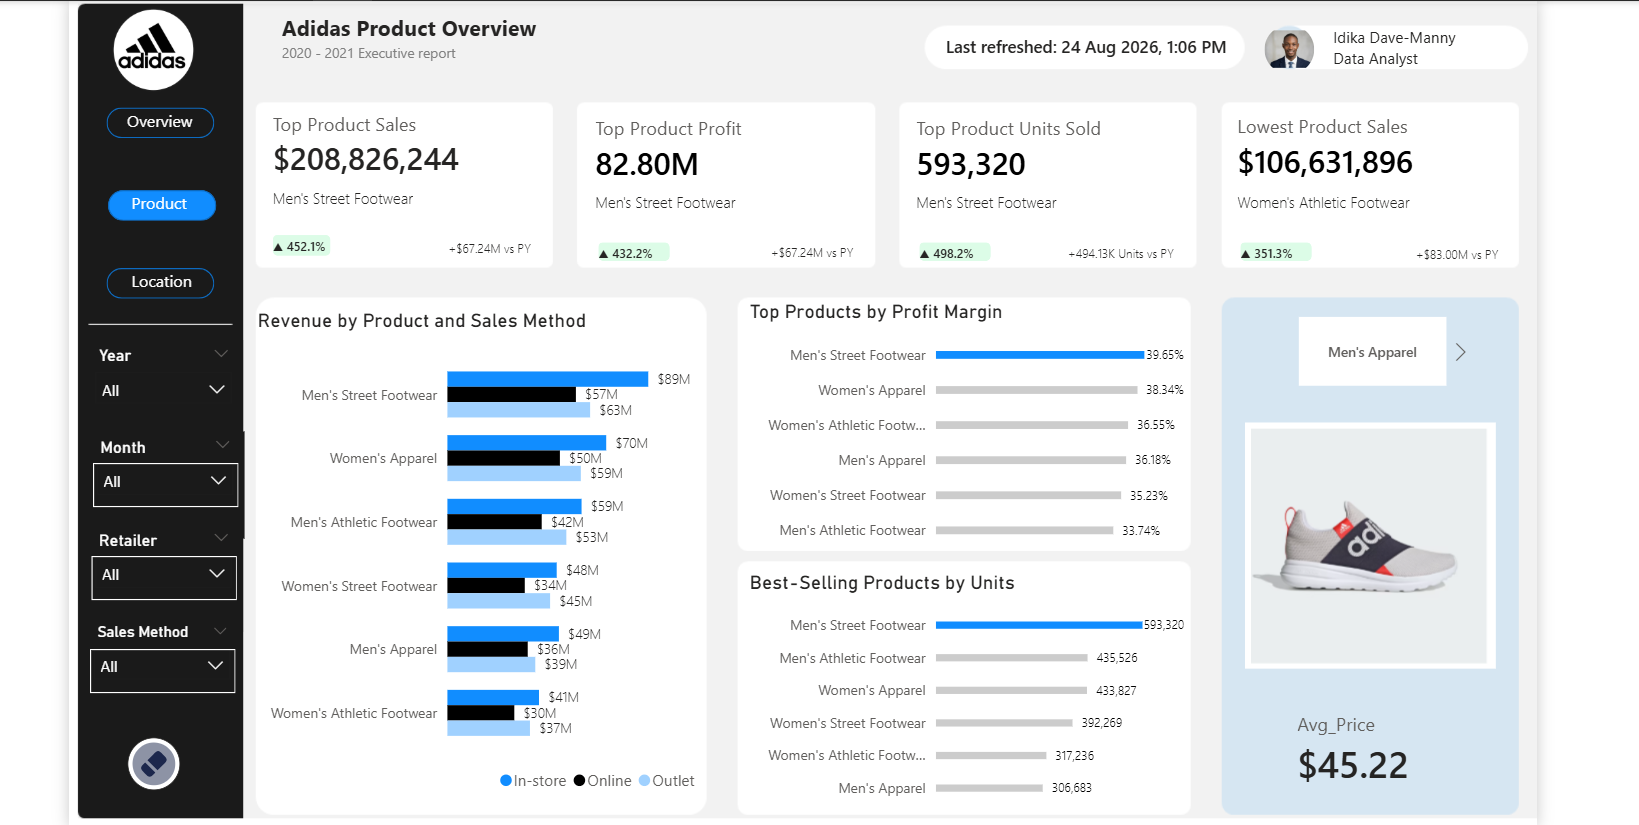

This screenshot's page, from the dashboard's own definition file:
{"tool":"powerbi","page":{"name":"Product Page","canvas":[1280,720],"ordinal":2},"visuals":[{"type":"image","box":[1042.1,21.2,43.4,42.4],"z":0,"group":"g15"},{"type":"cardVisual","fields":{"Data":["Sales.Top Product Sales"]},"box":[172.1,88.4,180,72.3],"z":0,"group":"g5"},{"type":"cardVisual","fields":{"Data":["Sales.Lowest Product Sales"]},"box":[1014,88.4,190,76.9],"z":0,"group":"g12"},{"type":"textbox","box":[38.3,88.5,82,31.1],"z":0},{"type":"cardVisual","fields":{"Data":["Sales.Top Product Profit"]},"box":[453.8,93.1,180,72.3],"z":0,"group":"g8"},{"type":"cardVisual","fields":{"Data":["Sales.Top Product Units Sold"]},"box":[733.8,93.1,180,72.3],"z":0,"group":"g11"},{"type":"slicer","title":"Year","fields":{"Values":["Date.Year"]},"box":[12.8,294.9,138.5,93.6],"z":0,"group":"g16"},{"type":"slicer","title":"Year","fields":{"Values":["Date.Month"]},"box":[14.1,375.6,138.5,93.6],"z":0,"group":"g2"},{"type":"slicer","title":"Year","fields":{"Values":["Sales.Retailer"]},"box":[12.8,456.4,138.5,93.6],"z":0,"group":"g3"},{"type":"slicer","title":"Year","fields":{"Values":["Sales.Sales Method"]},"box":[11.5,537.2,138.5,93.6],"z":0,"group":"g4"},{"type":"textbox","box":[1096.5,17.1,153.5,46.5],"z":1000,"group":"g15"},{"type":"cardVisual","fields":{"Data":["Sales.Top Product Name"]},"box":[172.3,154.6,152.3,29.2],"z":1000,"group":"g5"},{"type":"cardVisual","fields":{"Data":["Sales.Lowest Product Name"]},"box":[1014,158.9,165.4,29.2],"z":1000,"group":"g12"},{"type":"cardVisual","fields":{"Data":["Sales.Top Product Name"]},"box":[454,159.3,152.3,29.2],"z":1000,"group":"g8"},{"type":"cardVisual","fields":{"Data":["Sales.Top Product Name"]},"box":[734,159.3,152.3,29.2],"z":1000,"group":"g11"},{"type":"shape","box":[19.2,321.8,126.9,38.5],"z":1000,"group":"g16"},{"type":"shape","box":[20.5,402.5,126.9,38.5],"z":1000,"group":"g2"},{"type":"shape","box":[19.2,483.3,126.9,38.5],"z":1000,"group":"g3"},{"type":"shape","box":[17.9,564.1,126.9,38.5],"z":1000,"group":"g4"},{"type":"cardVisual","fields":{"Data":["Sales.Top Product Sales Growth Badge"]},"box":[172.3,198.5,60.8,28.5],"z":2000,"group":"g5"},{"type":"cardVisual","fields":{"Data":["Sales.Top Product Profit Growth Badge"]},"box":[457,205.3,72.3,26.2],"z":2000,"group":"g8"},{"type":"cardVisual","fields":{"Data":["Sales.Top Product Units Sold Growth Badge"]},"box":[737,205.3,72.3,26.2],"z":2000,"group":"g11"},{"type":"cardVisual","fields":{"Data":["Sales.Lowest Product Sales Growth Badge"]},"box":[1017.1,205.3,72.3,26.2],"z":2000,"group":"g12"},{"type":"textbox","box":[38.2,228.6,82.3,31.4],"z":2000},{"type":"textbox","box":[180.8,5.1,273.1,61.5],"z":3000},{"type":"cardVisual","fields":{"Data":["Sales.Top Product Profit Growth Label"]},"box":[324.6,198.5,90.8,30],"z":3000,"group":"g5"},{"type":"cardVisual","fields":{"Data":["Sales.Top Product Profit Growth Label"]},"box":[606.3,203.2,90.8,30],"z":3000,"group":"g8"},{"type":"cardVisual","fields":{"Data":["Sales.Lowest Product Sales Growth Label"]},"box":[1170.2,204.2,86.9,28.5],"z":3000,"group":"g12"},{"type":"cardVisual","fields":{"Data":["Sales.Top Product Units Sold Growth Label"]},"box":[866.2,205.3,110.8,27.7],"z":3000,"group":"g11"},{"type":"group","id":"g1","title":"Group 17","box":[12.8,294.9,138.5,93.6],"z":4000},{"type":"group","id":"g2","title":"Group 18","box":[14.1,375.6,138.5,93.6],"z":5000},{"type":"group","id":"g3","title":"Group 18","box":[12.8,456.4,138.5,93.6],"z":6000},{"type":"group","id":"g4","title":"Group 18","box":[11.5,537.2,138.5,93.6],"z":7000},{"type":"image","box":[0,5.1,147.4,74.4],"z":8000},{"type":"group","id":"g5","title":"Group 1","box":[172.1,88.4,243.3,140.1],"z":9000},{"type":"group","id":"g6","title":"Group 1","box":[453.8,93.1,243.3,140.1],"z":10000},{"type":"group","id":"g7","title":"Group 2","box":[1014,88.4,243.1,144.3],"z":10001,"group":"g14"},{"type":"group","id":"g8","title":"Group 2","box":[453.8,93.1,243.3,140.1],"z":10001,"group":"g6"},{"type":"group","id":"g9","title":"Group 2","box":[733.8,93.1,243.2,139.9],"z":10001,"group":"g13"},{"type":"group","id":"g10","title":"Group 3","box":[1014,88.4,243.1,144.3],"z":10002,"group":"g7"},{"type":"group","id":"g11","title":"Group 3","box":[733.8,93.1,243.2,139.9],"z":10002,"group":"g9"},{"type":"group","id":"g12","title":"Group 4","box":[1014,88.4,243.1,144.3],"z":10003,"group":"g10"},{"type":"group","id":"g13","title":"Group 1","box":[733.8,93.1,243.2,139.9],"z":11000},{"type":"group","id":"g14","title":"Group 1","box":[1014,88.4,243.1,144.3],"z":12000},{"type":"clusteredBarChart","fields":{"Y":["Sales.Revenue"],"Category":["Sales.Product"],"Series":["Sales.Sales Method"]},"box":[159.2,268.4,396.1,430.3],"z":13000},{"type":"barChart","title":"Top Products by Profit Margin ","fields":{"Category":["Product.Product"],"Y":["Sales.Margin %"]},"box":[588.2,260.5,388.2,222.4],"z":14000},{"type":"barChart","title":"Best-Selling Products by Units","fields":{"Category":["Product.Product"],"Y":["Sales.Total Units"]},"box":[588.5,496.9,388.5,209.2],"z":15000},{"type":"simpleImageEBC4593F96F1425FB3D84C5BF02B5075","fields":{"imageURL":["Product.Image Url"]},"box":[1025.7,366.9,218.9,214.9],"z":16000},{"type":"shape","box":[32.2,92.9,94,26.8],"z":17000},{"type":"cardVisual","fields":{"Data":["Sales.Avg_Price"]},"box":[1066.2,606.8,137.8,91.9],"z":18000},{"type":"shape","box":[34.4,165,94.4,26.9],"z":19000},{"type":"slicer","fields":{"Values":["Product.Product"]},"box":[1045.9,267.6,178.4,74.3],"z":20000},{"type":"group","id":"g15","title":"Group 19","box":[1042.1,17.1,207.9,46.5],"z":21000},{"type":"cardVisual","fields":{"Data":["Sales.Last Refreshed Label"]},"box":[752.8,16.1,267.1,45.5],"z":22000},{"type":"group","id":"g16","title":"Group 18","box":[12.8,294.9,138.5,93.6],"z":22503,"group":"g1"},{"type":"shape","box":[32.2,233.3,94,26.8],"z":23000},{"type":"textbox","box":[38,160.4,82.4,31.6],"z":23500}]}

Visuals, with their boxes on the page's 1280x720 design canvas (x1, y1, x2, y2). These are canvas units, not pixel positions in the 1639x825 screenshot, which may show the page scaled, cropped or inside an application window:
image: x1=1042 y1=21 x2=1086 y2=64
cardVisual - Sales.Top Product Sales: x1=172 y1=88 x2=352 y2=161
cardVisual - Sales.Lowest Product Sales: x1=1014 y1=88 x2=1204 y2=165
textbox: x1=38 y1=88 x2=120 y2=120
cardVisual - Sales.Top Product Profit: x1=454 y1=93 x2=634 y2=165
cardVisual - Sales.Top Product Units Sold: x1=734 y1=93 x2=914 y2=165
"Year" slicer: x1=13 y1=295 x2=151 y2=388
"Year" slicer: x1=14 y1=376 x2=153 y2=469
"Year" slicer: x1=13 y1=456 x2=151 y2=550
"Year" slicer: x1=12 y1=537 x2=150 y2=631
textbox: x1=1096 y1=17 x2=1250 y2=64
cardVisual - Sales.Top Product Name: x1=172 y1=155 x2=325 y2=184
cardVisual - Sales.Lowest Product Name: x1=1014 y1=159 x2=1179 y2=188
cardVisual - Sales.Top Product Name: x1=454 y1=159 x2=606 y2=188
cardVisual - Sales.Top Product Name: x1=734 y1=159 x2=886 y2=188
shape: x1=19 y1=322 x2=146 y2=360
shape: x1=20 y1=402 x2=147 y2=441
shape: x1=19 y1=483 x2=146 y2=522
shape: x1=18 y1=564 x2=145 y2=603
cardVisual - Sales.Top Product Sales Growth Badge: x1=172 y1=198 x2=233 y2=227
cardVisual - Sales.Top Product Profit Growth Badge: x1=457 y1=205 x2=529 y2=232
cardVisual - Sales.Top Product Units Sold Growth Badge: x1=737 y1=205 x2=809 y2=232
cardVisual - Sales.Lowest Product Sales Growth Badge: x1=1017 y1=205 x2=1089 y2=232
textbox: x1=38 y1=229 x2=120 y2=260
textbox: x1=181 y1=5 x2=454 y2=67
cardVisual - Sales.Top Product Profit Growth Label: x1=325 y1=198 x2=415 y2=228
cardVisual - Sales.Top Product Profit Growth Label: x1=606 y1=203 x2=697 y2=233
cardVisual - Sales.Lowest Product Sales Growth Label: x1=1170 y1=204 x2=1257 y2=233
cardVisual - Sales.Top Product Units Sold Growth Label: x1=866 y1=205 x2=977 y2=233
"Group 17" group: x1=13 y1=295 x2=151 y2=388
"Group 18" group: x1=14 y1=376 x2=153 y2=469
"Group 18" group: x1=13 y1=456 x2=151 y2=550
"Group 18" group: x1=12 y1=537 x2=150 y2=631
image: x1=0 y1=5 x2=147 y2=80
"Group 1" group: x1=172 y1=88 x2=415 y2=228
"Group 1" group: x1=454 y1=93 x2=697 y2=233
"Group 2" group: x1=1014 y1=88 x2=1257 y2=233
"Group 2" group: x1=454 y1=93 x2=697 y2=233
"Group 2" group: x1=734 y1=93 x2=977 y2=233
"Group 3" group: x1=1014 y1=88 x2=1257 y2=233
"Group 3" group: x1=734 y1=93 x2=977 y2=233
"Group 4" group: x1=1014 y1=88 x2=1257 y2=233
"Group 1" group: x1=734 y1=93 x2=977 y2=233
"Group 1" group: x1=1014 y1=88 x2=1257 y2=233
clusteredBarChart - Sales.Revenue x Sales.Product: x1=159 y1=268 x2=555 y2=699
"Top Products by Profit Margin " barChart: x1=588 y1=260 x2=976 y2=483
"Best-Selling Products by Units" barChart: x1=588 y1=497 x2=977 y2=706
simpleImageEBC4593F96F1425FB3D84C5BF02B5075 - Product.Image Url: x1=1026 y1=367 x2=1245 y2=582
shape: x1=32 y1=93 x2=126 y2=120
cardVisual - Sales.Avg_Price: x1=1066 y1=607 x2=1204 y2=699
shape: x1=34 y1=165 x2=129 y2=192
slicer - Product.Product: x1=1046 y1=268 x2=1224 y2=342
"Group 19" group: x1=1042 y1=17 x2=1250 y2=64
cardVisual - Sales.Last Refreshed Label: x1=753 y1=16 x2=1020 y2=62
"Group 18" group: x1=13 y1=295 x2=151 y2=388
shape: x1=32 y1=233 x2=126 y2=260
textbox: x1=38 y1=160 x2=120 y2=192
